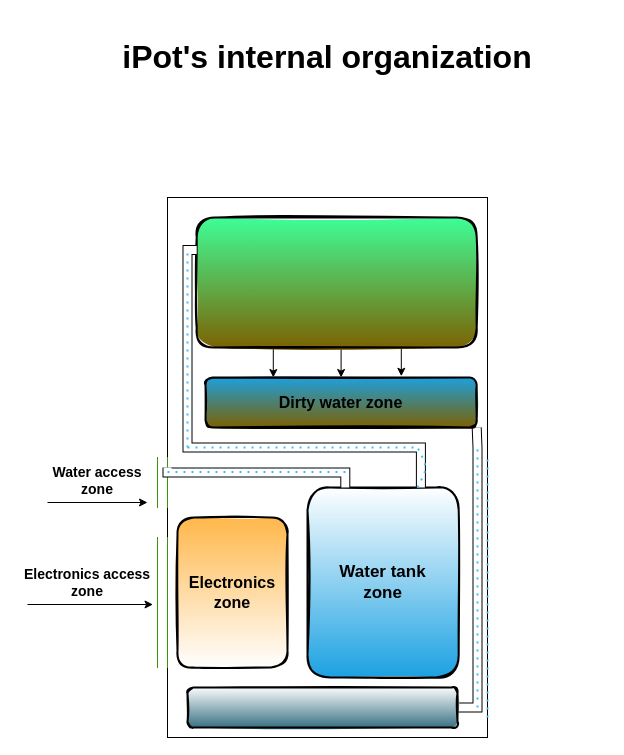
Some shapes in this 624 by 755 pixel diagram are drawn without their labels. The shapes that lost their labels are listed below. From the top down, each one's centre as x and y in pixels, then its label:
point (336, 282): Plant zone
point (322, 707): Evacuation zone
